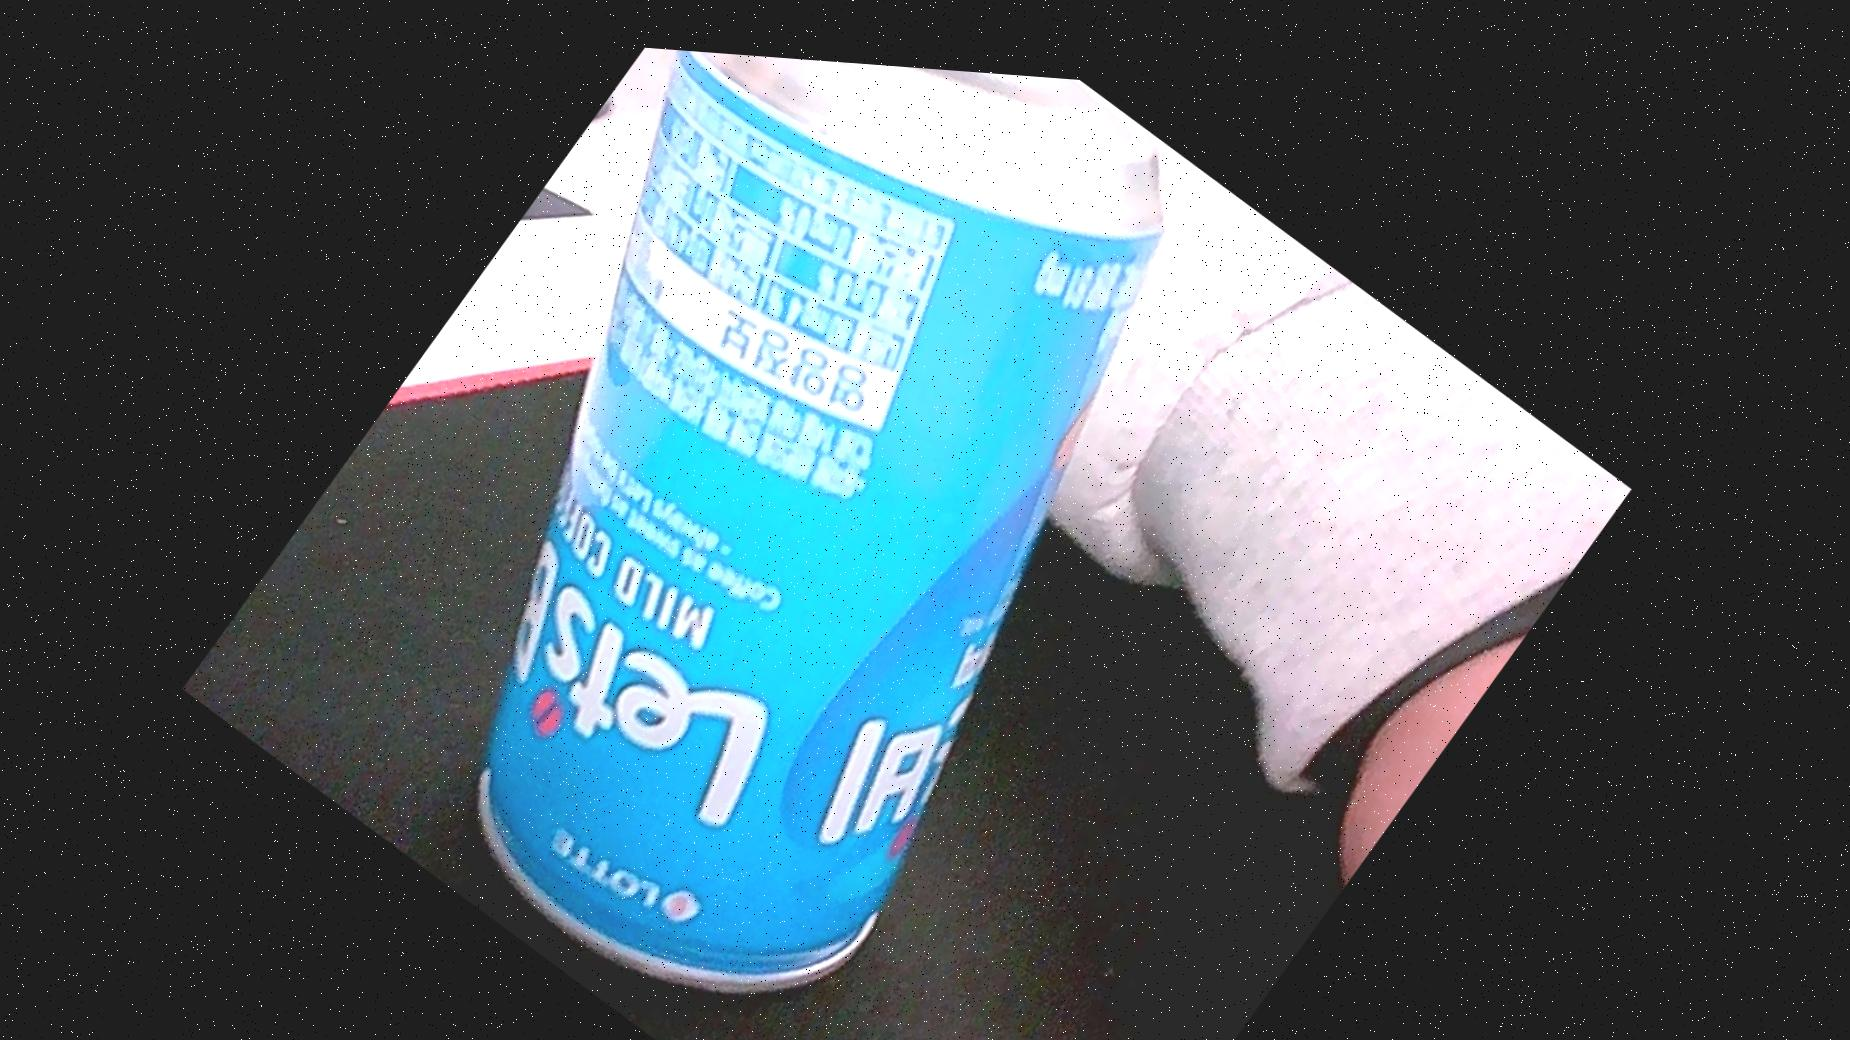letsbe: (212, 14, 1349, 1040)
